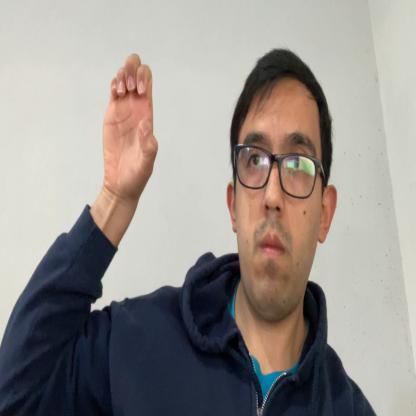E: (102, 53, 159, 198)
